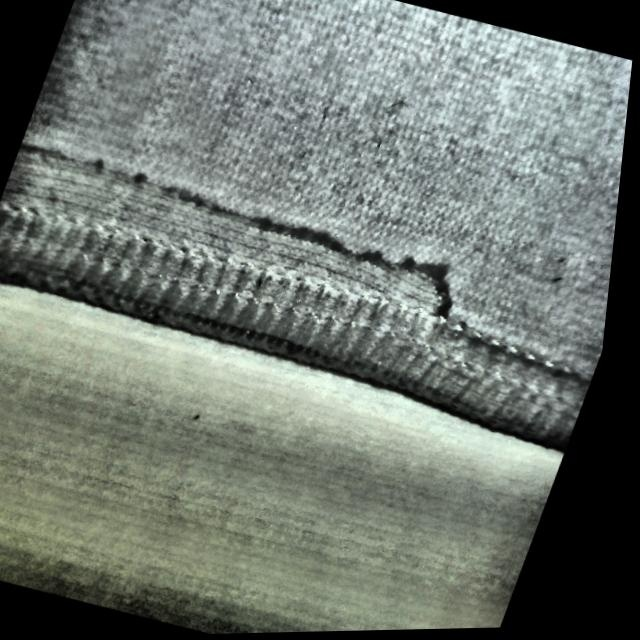seam: (0, 80, 498, 428)
